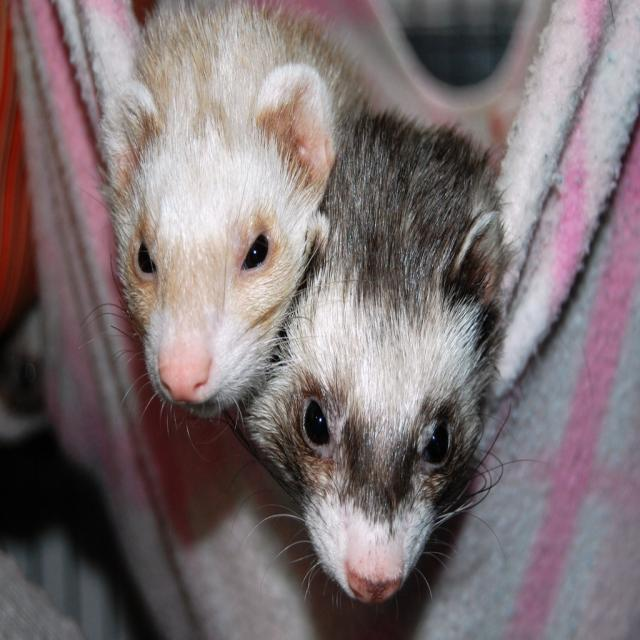rat: (241, 107, 507, 607), (100, 0, 357, 412)
